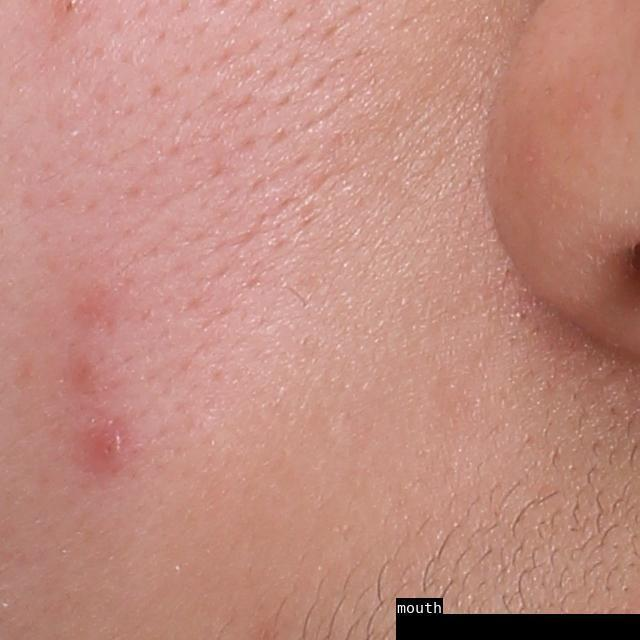papule: (81, 417, 137, 481)
